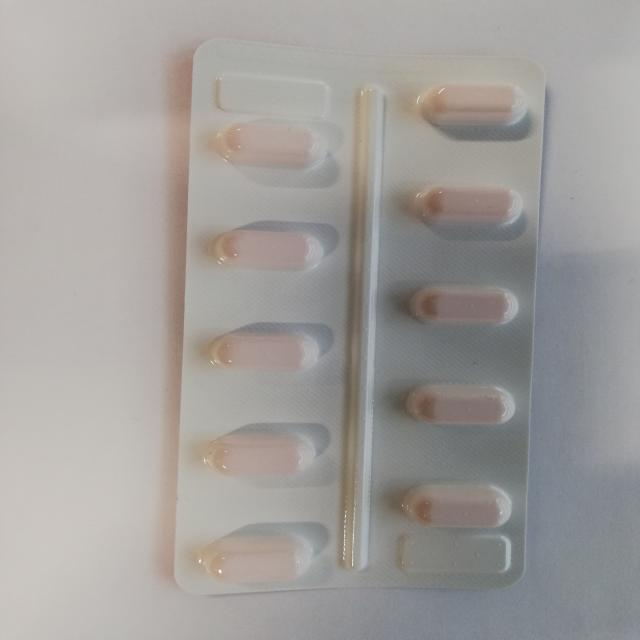Pill: (200, 317, 333, 383), (198, 421, 328, 485), (404, 71, 530, 137), (203, 213, 329, 279), (406, 175, 530, 237), (394, 475, 516, 537), (400, 375, 526, 435), (396, 276, 532, 331), (211, 115, 337, 171), (191, 526, 315, 582)
